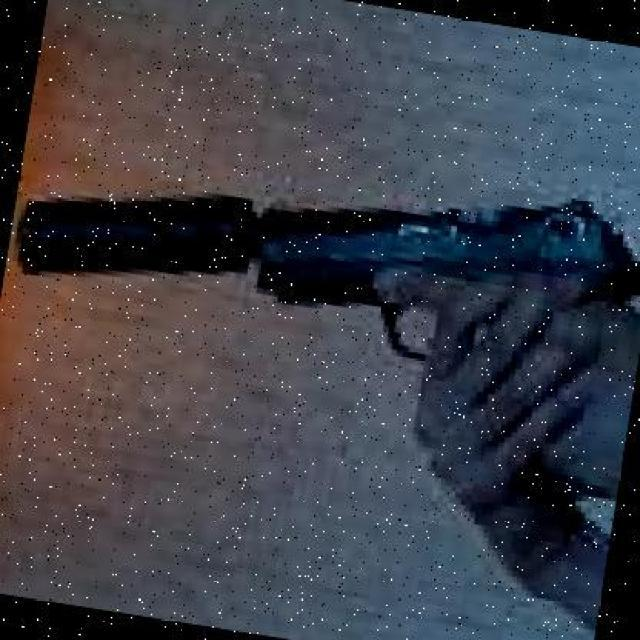rifle: (15, 191, 640, 488)
